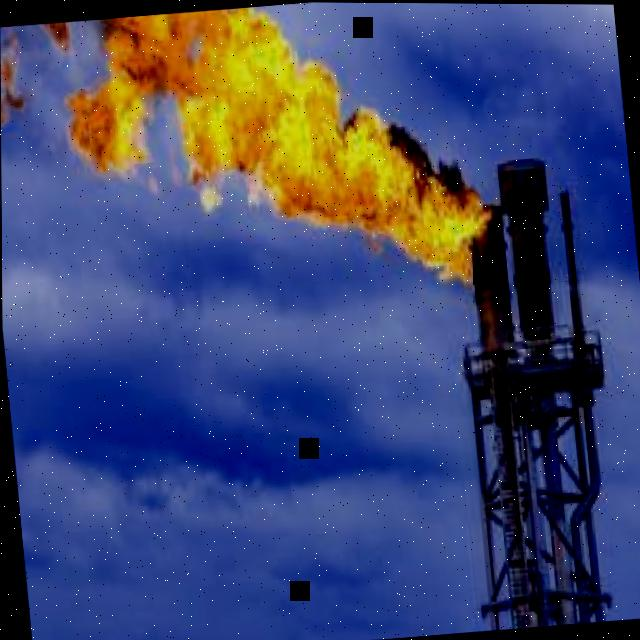fire: (64, 6, 487, 286), (0, 34, 25, 125), (39, 21, 67, 51)
smoke: (388, 121, 464, 186)
